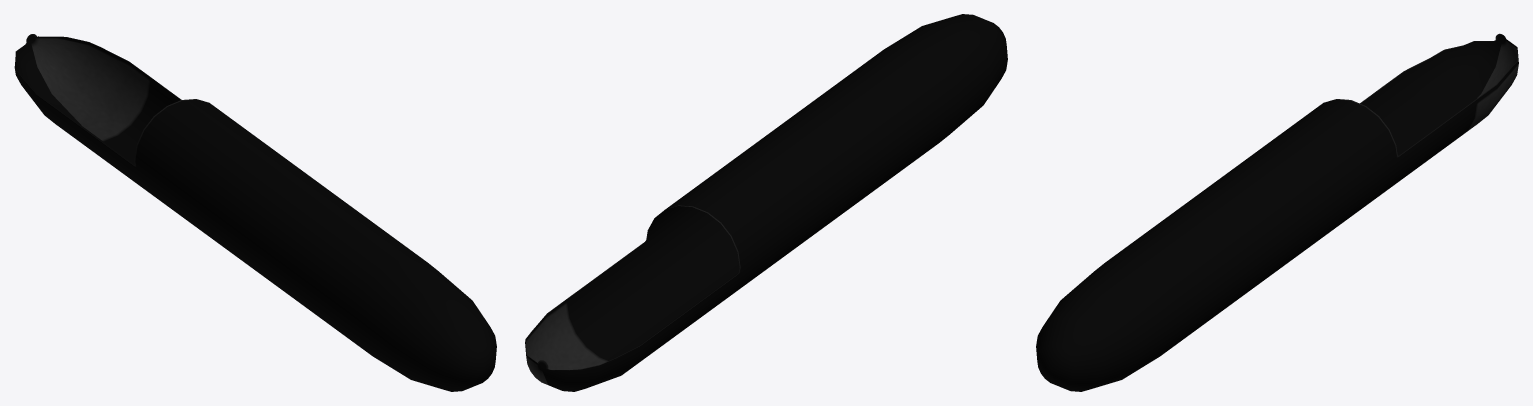
Rendered from loiter_body_lod1.obj.
3 renders of one model, left to right at view 1: azimuth 30°, elevation 25°; view 2: azimuth 150°, elevation 25°; view 3: azimuth 330°, elevation 25°, orthographic.
Size of the model in its own units: 0.3 by 0.3 by 2.49.
